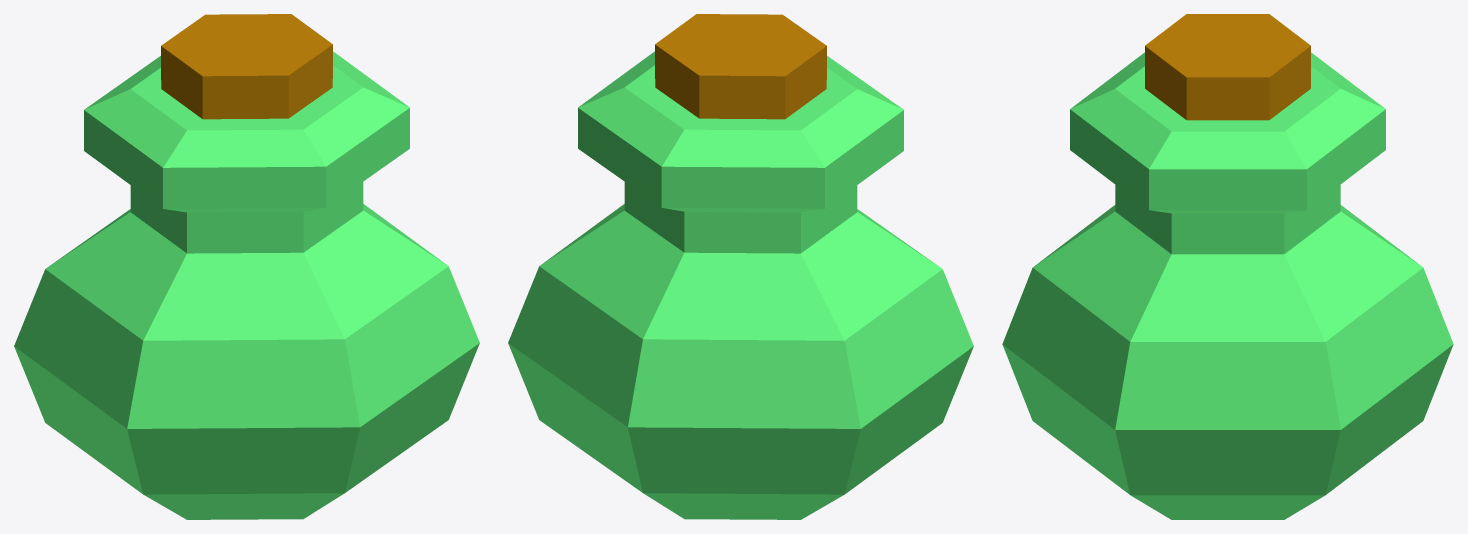
File: LiquidMedicine_01.fbx
The picture shows the model from 3 angles, left to right: view 1: azimuth 30°, elevation 25°; view 2: azimuth 150°, elevation 25°; view 3: azimuth 270°, elevation 25°; orthographic projection.
Visible parts, largest first — view 1: LiquidMedicine_01; view 2: LiquidMedicine_01; view 3: LiquidMedicine_01.
Boxes of the visible parts, <box> form: LiquidMedicine_01: <box>14,14,479,519</box>; LiquidMedicine_01: <box>508,14,973,519</box>; LiquidMedicine_01: <box>1002,14,1453,519</box>.
Bounding box in the file's own units: 27 × 31.64 × 30.
1 material, 1 textured.
